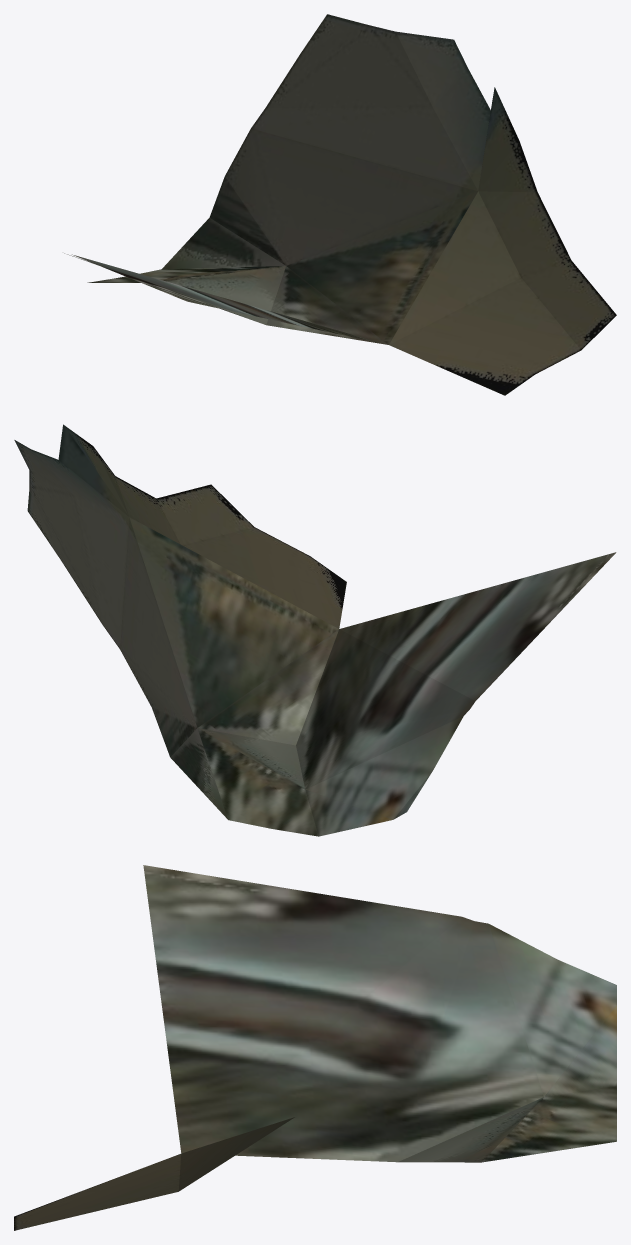
3 views of the same model, one above another, from view 1: azimuth 30°, elevation 25°; view 2: azimuth 150°, elevation 25°; view 3: azimuth 270°, elevation 25° (orthographic). The views are drawn at different scales.
Bounding box in the file's own units: 1.67 × 0.9119 × 1.67.
3 materials, 3 textured.
